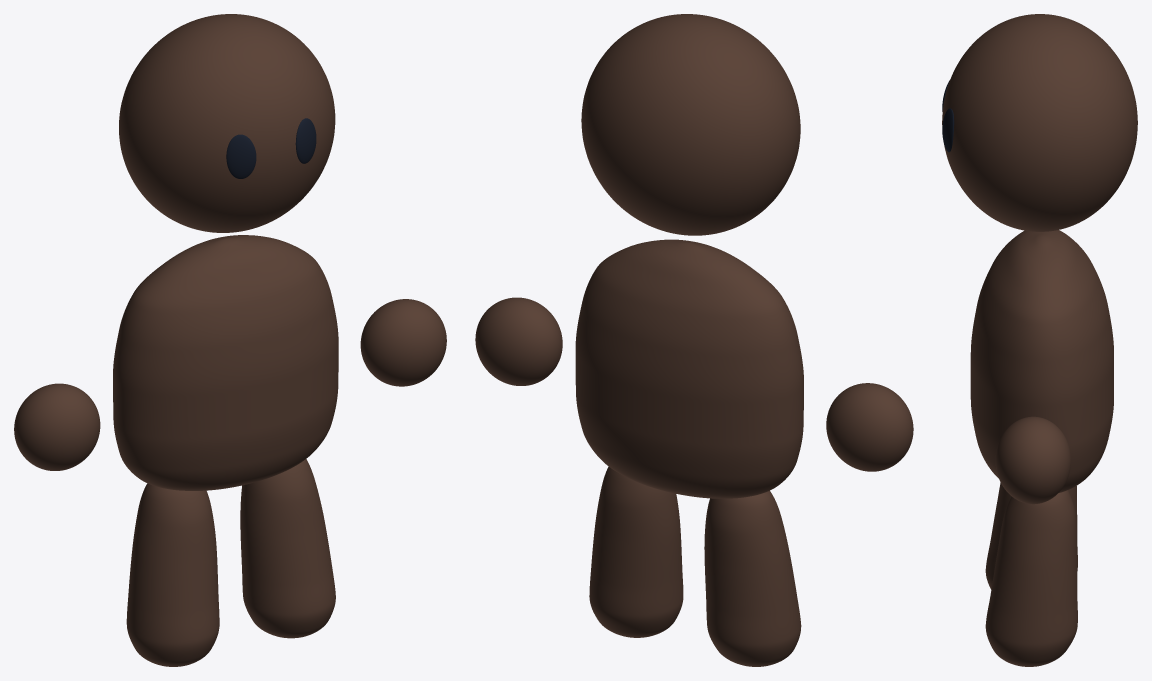
The model's file is Masculine-skin3.glb.
The picture shows the model from 3 angles, left to right: view 1: azimuth 30°, elevation 25°; view 2: azimuth 150°, elevation 25°; view 3: azimuth 270°, elevation 25°; orthographic projection. The views are drawn at different scales.
Parts seen in each view (by area): view 1: Rounded torso, Round head, Left leg blob, Right leg blob, Right round hand, Left round hand, Left optional eye, Right optional eye; view 2: Rounded torso, Round head, Left leg blob, Right leg blob, Left round hand, Right round hand; view 3: Round head, Rounded torso, Right leg blob, Right round hand, Left leg blob, Right optional eye.
Boxes of the visible parts, x1=… form: Rounded torso: x1=113, y1=235, x2=338, y2=490; Round head: x1=119, y1=14, x2=335, y2=232; Left leg blob: x1=126, y1=483, x2=219, y2=666; Right leg blob: x1=240, y1=459, x2=335, y2=638; Right round hand: x1=360, y1=299, x2=446, y2=386; Left round hand: x1=14, y1=383, x2=100, y2=470; Left optional eye: x1=226, y1=134, x2=256, y2=178; Right optional eye: x1=295, y1=118, x2=316, y2=163; Rounded torso: x1=575, y1=239, x2=803, y2=498; Round head: x1=581, y1=14, x2=800, y2=235; Left leg blob: x1=704, y1=490, x2=801, y2=666; Right leg blob: x1=589, y1=466, x2=683, y2=637; Left round hand: x1=826, y1=383, x2=913, y2=471; Right round hand: x1=475, y1=297, x2=562, y2=385; Round head: x1=942, y1=14, x2=1137, y2=231; Rounded torso: x1=970, y1=230, x2=1113, y2=492; Right leg blob: x1=985, y1=490, x2=1077, y2=666; Right round hand: x1=995, y1=416, x2=1070, y2=504; Left leg blob: x1=985, y1=482, x2=1077, y2=589; Right optional eye: x1=942, y1=108, x2=954, y2=152.
Bounding box in the file's own units: 1.94 × 2.72 × 0.792.
